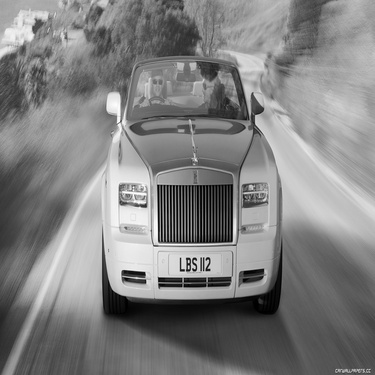car: (84, 48, 287, 318)
